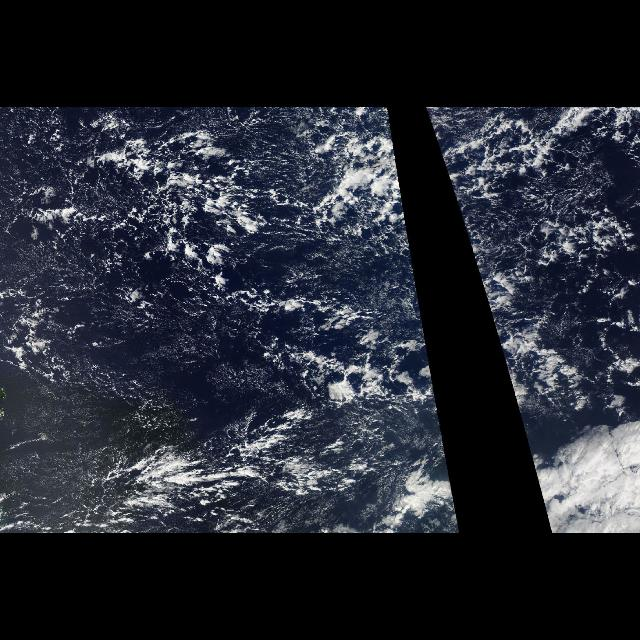Gravel: (14, 119, 460, 526), (430, 119, 618, 526)
Sugar: (27, 302, 276, 520)
